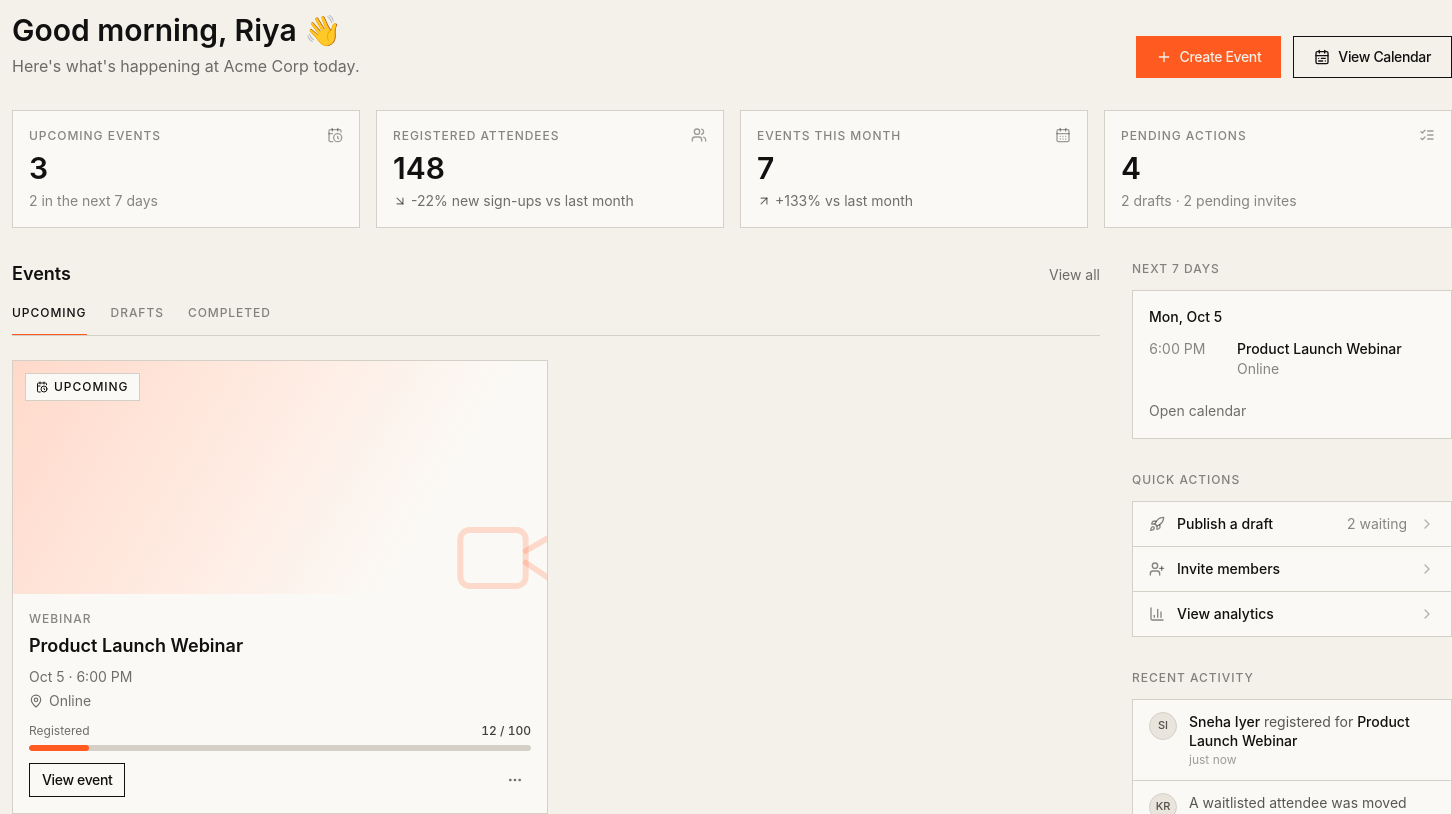
Test: ManagerDashboard › the events tabs › asks for the right status per tab, and explains an empty one
Check: the heading "Product Launch Webinar" is shown, box x1=29 y1=635 x2=243 y2=656
Click the tab "DRAFTS". click: coordinates (137, 320)
box: x1=110 y1=304 x2=164 y2=336
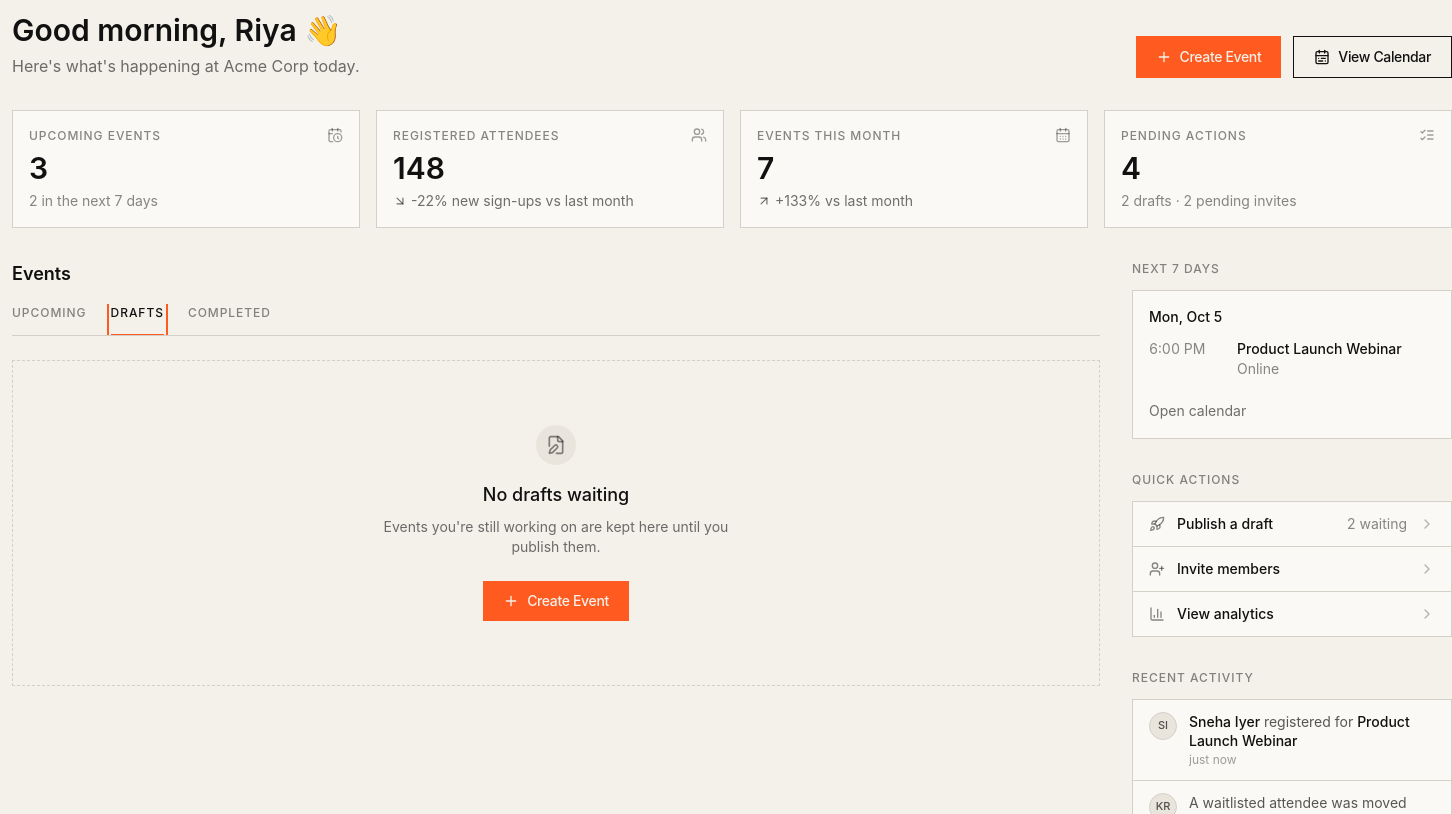
Check: the text "No drafts waiting" is shown, box x1=483 y1=484 x2=629 y2=504
Click the tab "COMPLETED". click: coordinates (229, 320)
box: x1=188 y1=304 x2=271 y2=336
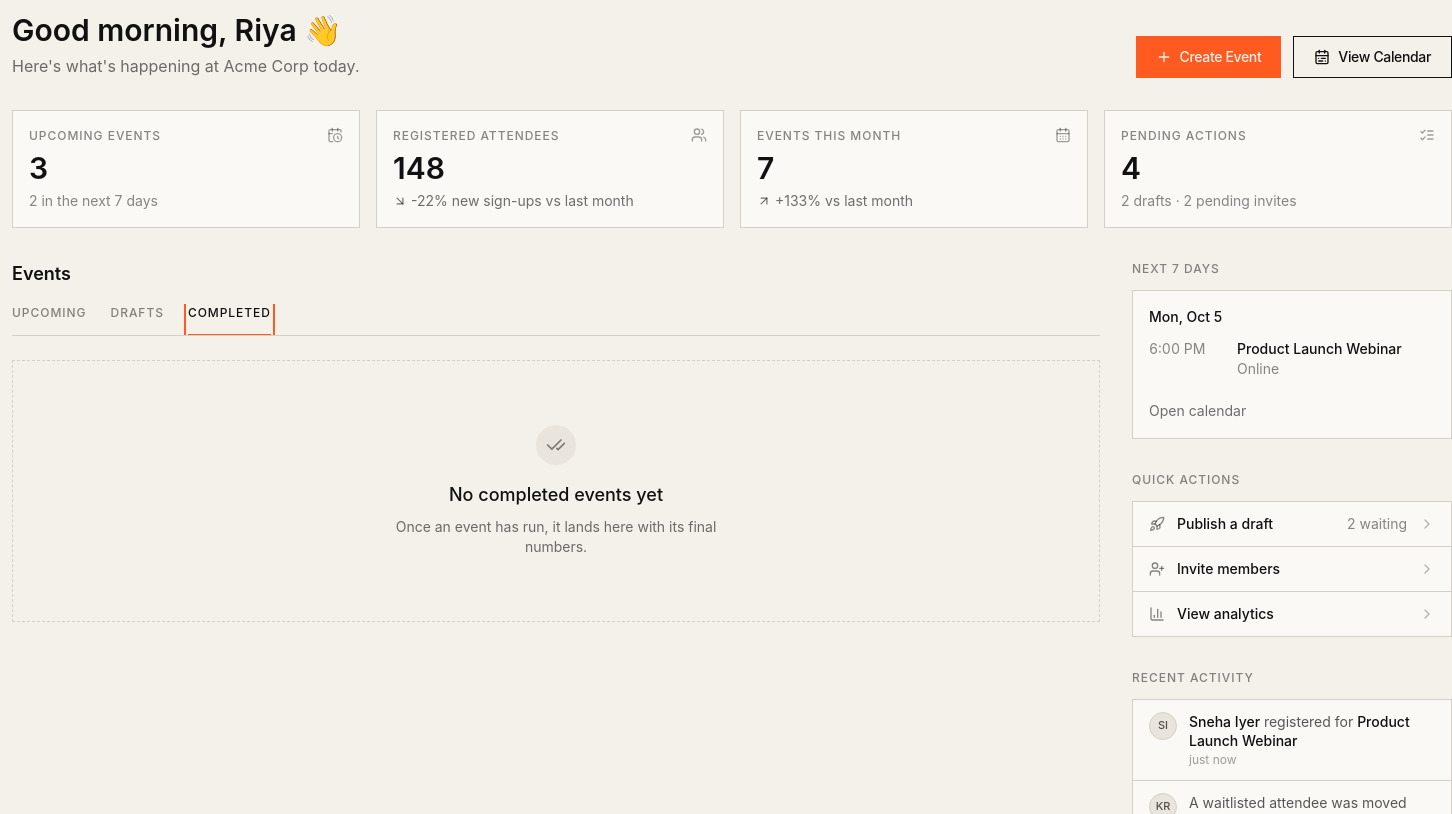
Check: the text "No completed events yet" is shown, box x1=449 y1=484 x2=663 y2=504
